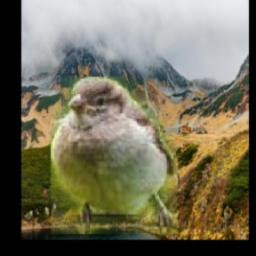Sparrow: (52, 77, 179, 234)
